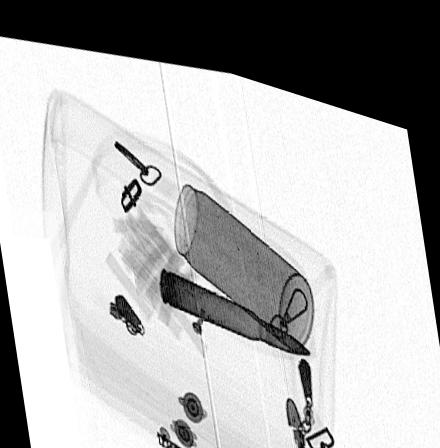Bullet: (158, 256, 311, 339)
